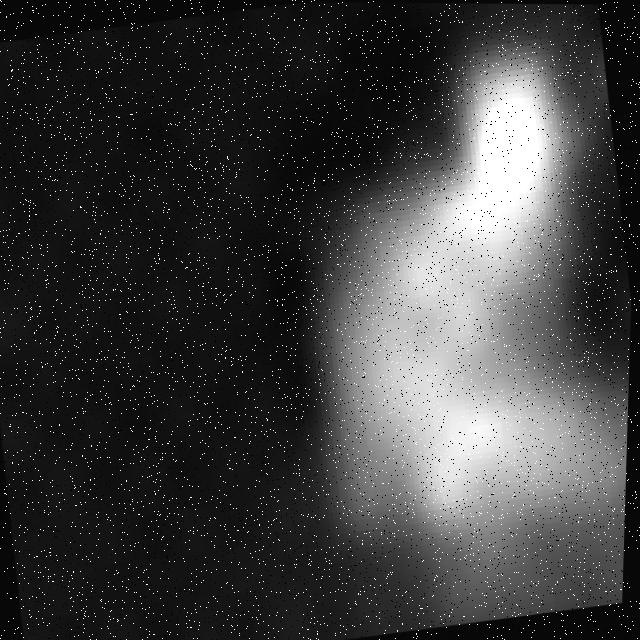person: (268, 3, 640, 640)
